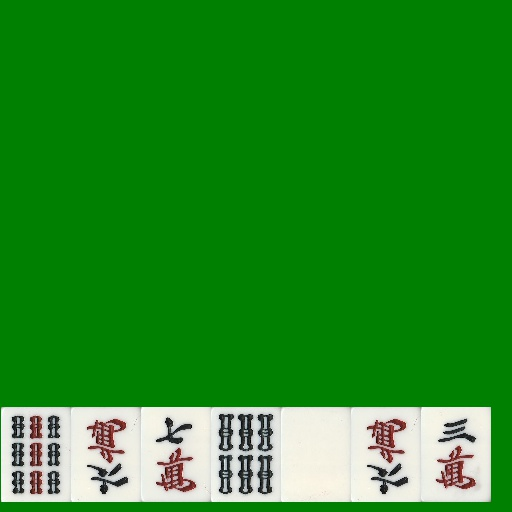3m: (421, 407, 491, 502)
6m: (71, 407, 141, 502), (351, 407, 421, 502)
6s: (211, 407, 281, 502)
7m: (141, 407, 211, 502)
9s: (1, 407, 71, 502)
white: (281, 407, 351, 502)
